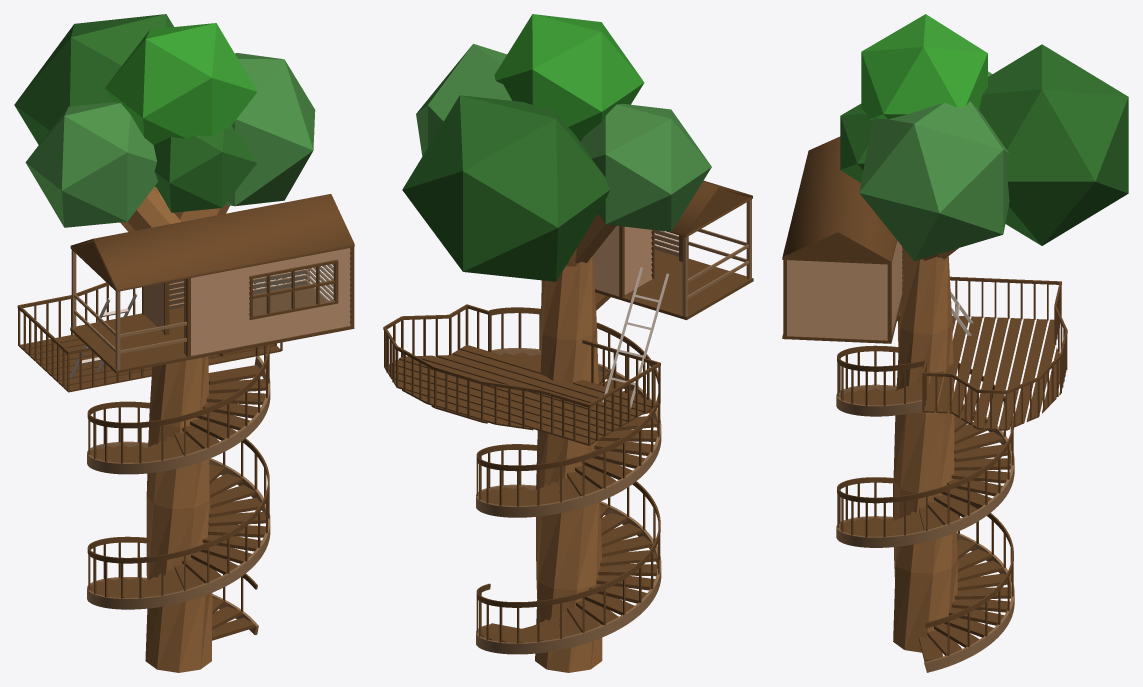
The model's file is TreeHouse.fbx.
3 renders of one model, left to right at view 1: azimuth 30°, elevation 25°; view 2: azimuth 150°, elevation 25°; view 3: azimuth 270°, elevation 25°, orthographic. The views are drawn at different scales.
Parts seen in each view (by area): view 1: tree, House, Stair_Structure, tree1; view 2: tree, Stair_Structure, tree1, House, Stair; view 3: tree, Stair_Structure, House, tree1.
Boxes of the visible parts, left/top/right/bottom form: tree: left=14, top=14, right=315, bottom=231; House: left=70, top=194, right=354, bottom=373; Stair_Structure: left=17, top=277, right=290, bottom=640; tree1: left=145, top=281, right=212, bottom=672; tree: left=402, top=14, right=711, bottom=281; Stair_Structure: left=383, top=304, right=661, bottom=654; tree1: left=535, top=256, right=602, bottom=672; House: left=593, top=180, right=753, bottom=320; Stair: left=602, top=267, right=668, bottom=408; tree: left=840, top=14, right=1128, bottom=261; Stair_Structure: left=836, top=276, right=1067, bottom=672; House: left=782, top=136, right=902, bottom=343; tree1: left=893, top=246, right=957, bottom=652.
Size of the model in its own units: 275 by 605 by 311.
